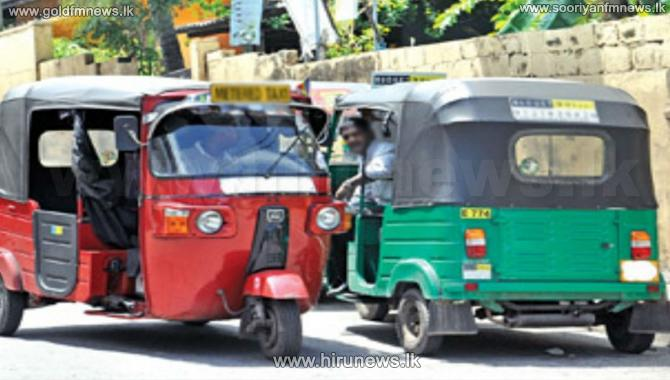threewheel: (1, 78, 351, 361), (322, 87, 670, 354)
